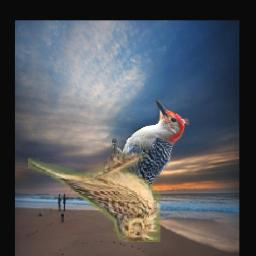Sparrow: (27, 154, 160, 243)
Woodpecker: (110, 101, 188, 217)
